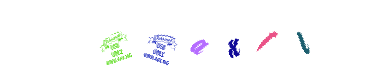3: (140, 0, 220, 80)
5: (74, 0, 154, 80)
A: (150, 0, 230, 80)
F: (217, 0, 297, 80)
L: (227, 0, 307, 80)
X: (155, 0, 235, 80)
